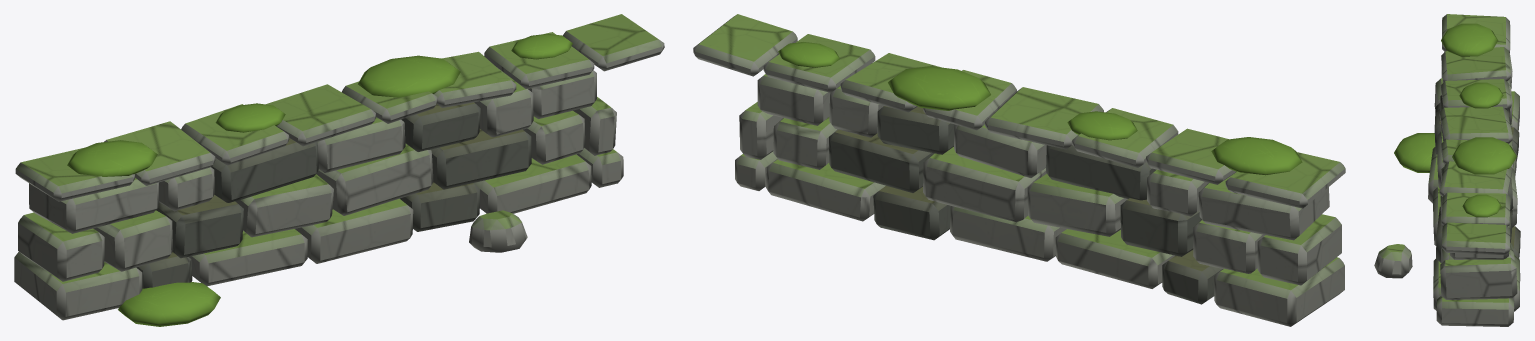
Rendered from stone_wall_low.glb.
The picture shows the model from 3 angles, left to right: view 1: azimuth 30°, elevation 25°; view 2: azimuth 150°, elevation 25°; view 3: azimuth 270°, elevation 25°; orthographic projection. The views are drawn at different scales.
Visible parts, largest first — view 1: stone_wall_low; view 2: stone_wall_low; view 3: stone_wall_low.
Part boxes in pixels (left/top/right/bottom): stone_wall_low: left=14, top=14, right=664, bottom=326; stone_wall_low: left=693, top=14, right=1345, bottom=326; stone_wall_low: left=1374, top=14, right=1520, bottom=326.
Size of the model in its own units: 4.19 by 1.02 by 1.12.
3 materials, 3 textured.
